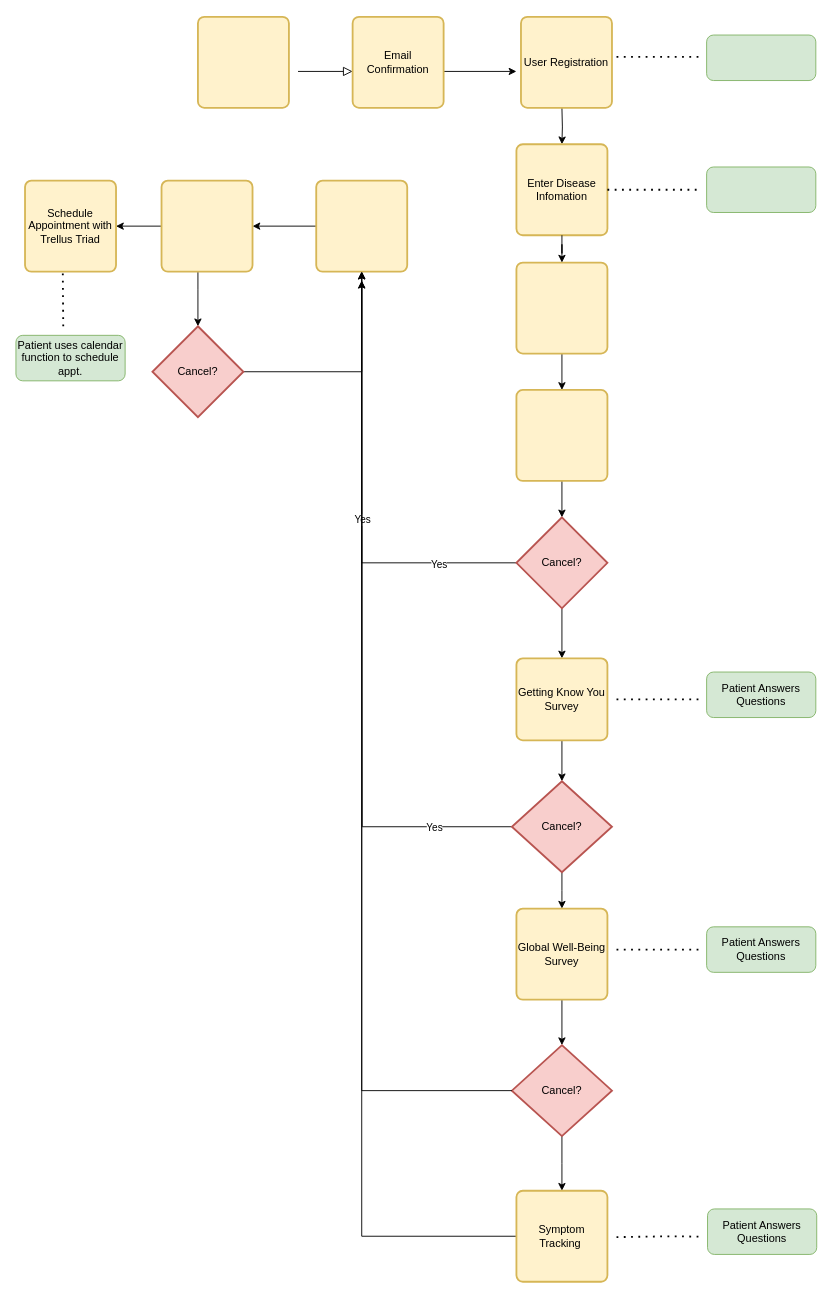
This 833x1298 diagram has some shape labels left out. The box of each missing label's shape, as (x1, y1, x2, y2) in pixels:
Enter GI Provider Appt.: (160, 179, 253, 272)
Home: (315, 179, 408, 272)
Patient enters disease related onset, GI provider: (706, 166, 816, 212)
Patient enters email, password: (706, 34, 816, 81)
Positive Affirmation Screen: (515, 261, 608, 354)
Tour App: (515, 389, 608, 481)
Trellus "Welcome" email sent: (197, 15, 289, 108)
